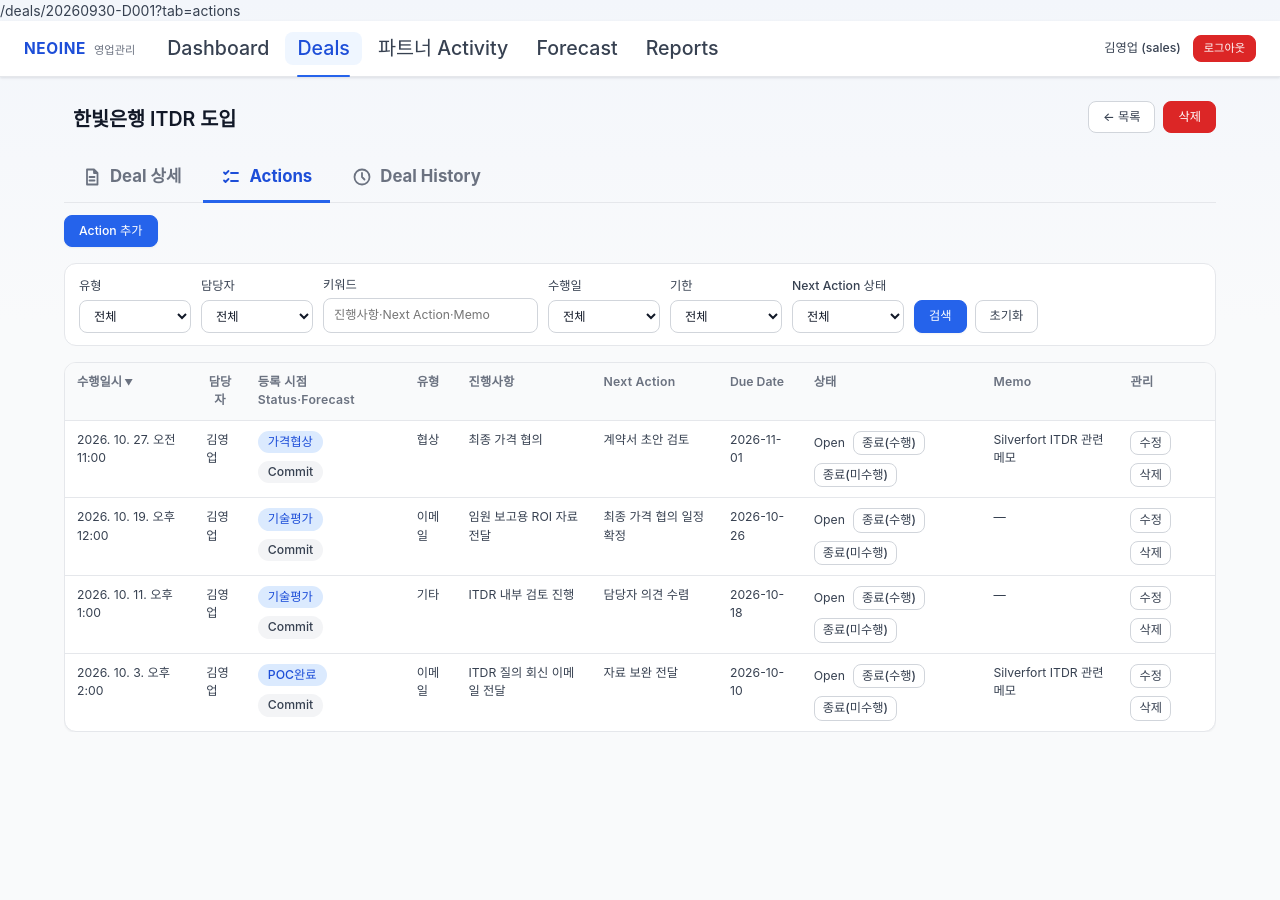
Scenario: Action 등록 폼의 Status · Forecast · 유형 한 줄 (AC-13) › keeps_the_edit_form_layout_without_status_or_forecast
Expected: the heading "한빛은행 ITDR 도입" is shown, [64,101,245,138]
Click the button "Action 추가" at (111, 231), box [64,215,158,247]
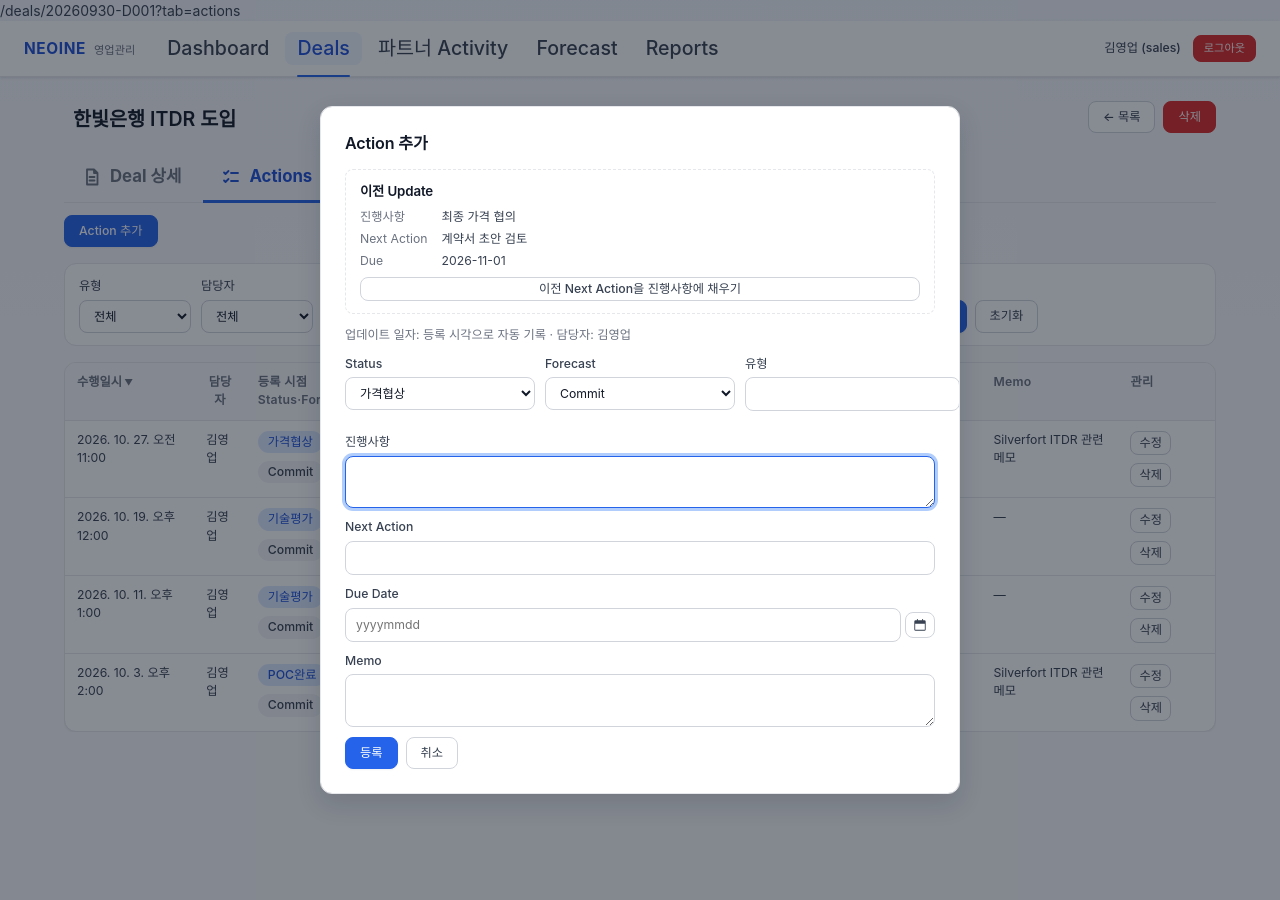
Click the button "취소" at (432, 753), box [406,737,458,769]
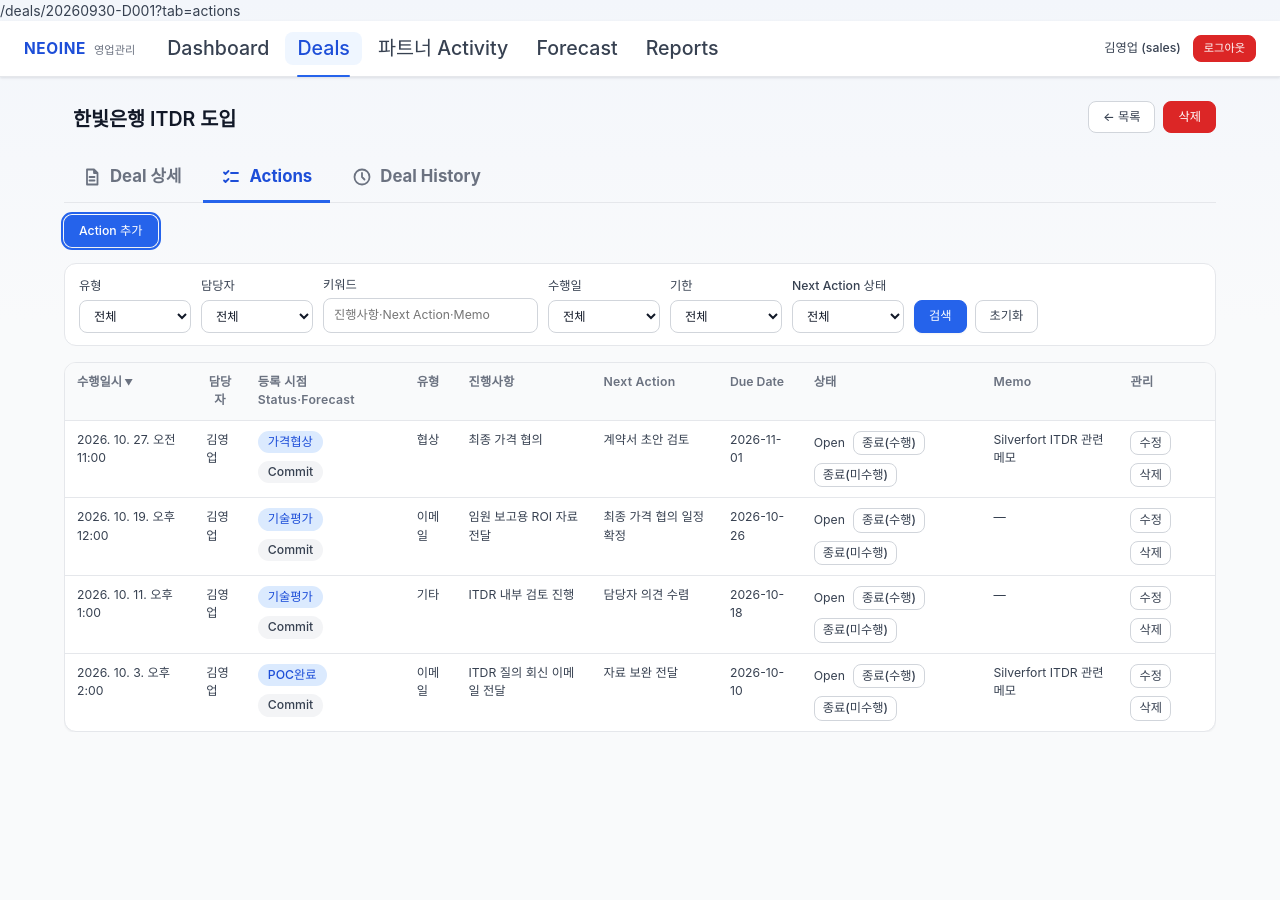
Click the 2nd button "수정" at (1151, 520), box [1130,508,1171,533]
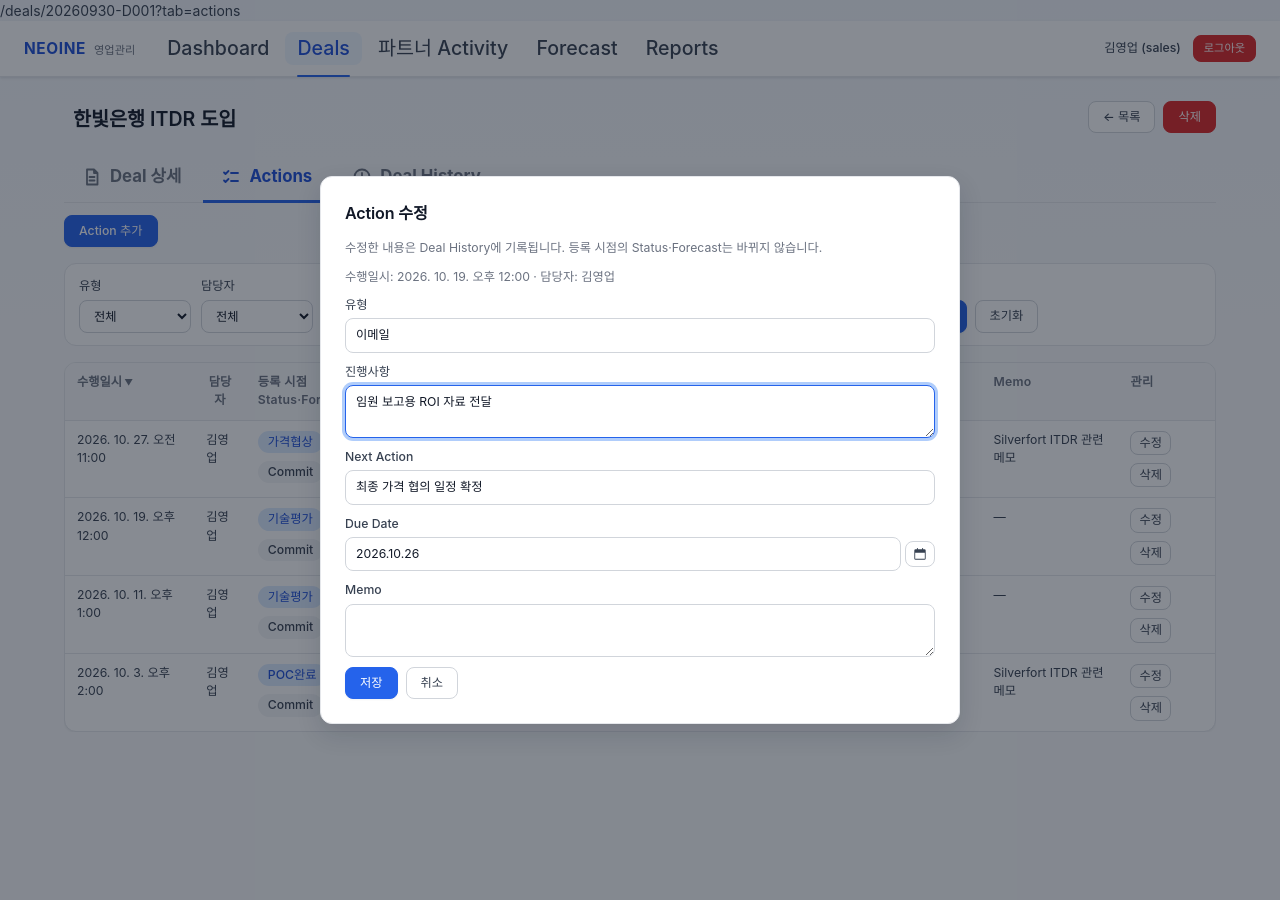
Expected: the text "Status Forecast 유형" is not shown
Expected: the dropdown labelled "유형" is shown, [345,318,935,353]
